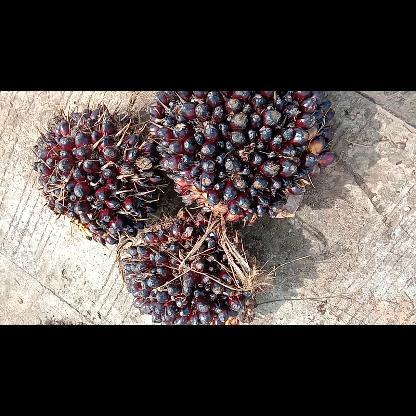TBS mentah: (145, 91, 340, 227), (27, 102, 171, 248), (116, 206, 260, 324)
